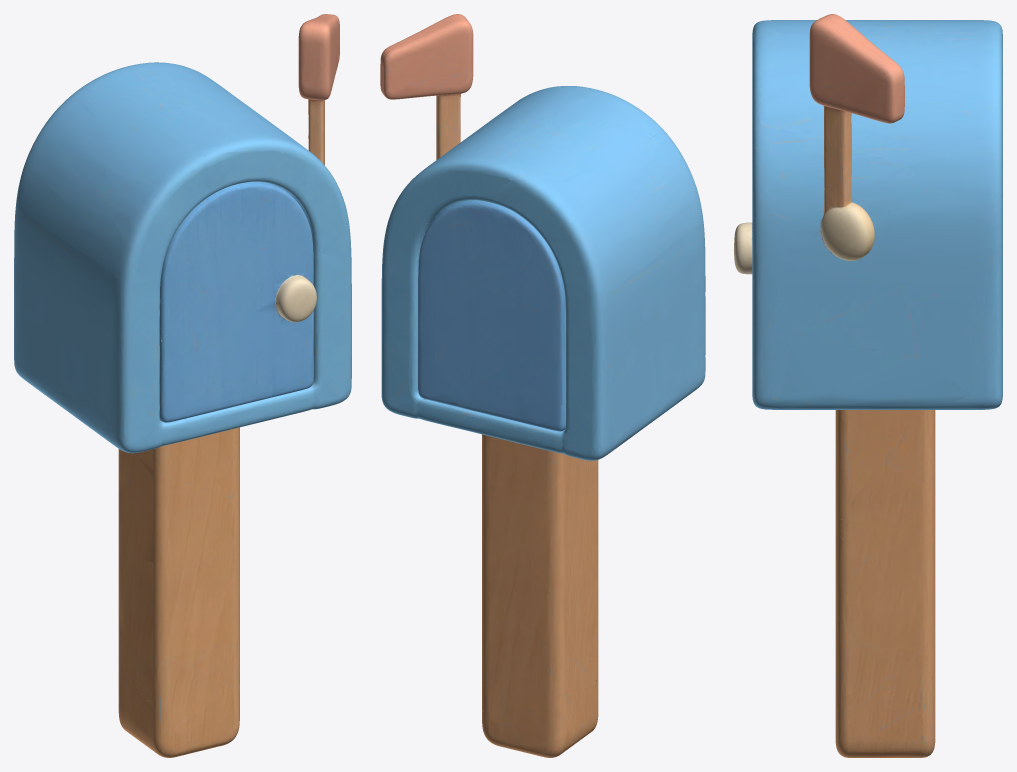
Rendered from mailbox-low.glb.
3 renders of one model, left to right at view 1: azimuth 30°, elevation 25°; view 2: azimuth 150°, elevation 25°; view 3: azimuth 270°, elevation 25°, orthographic. The views are drawn at different scales.
Visible parts, largest first — view 1: Mesh_0.004; view 2: Mesh_0.004; view 3: Mesh_0.004.
Part boxes in pixels (x1,y1,x2,y2): Mesh_0.004: [14, 14, 351, 757]; Mesh_0.004: [380, 14, 705, 757]; Mesh_0.004: [734, 14, 1002, 757].
Size of the model in its own units: 0.7878 by 1.9 by 0.5913.
Materials: 1 (1 with a texture image).
